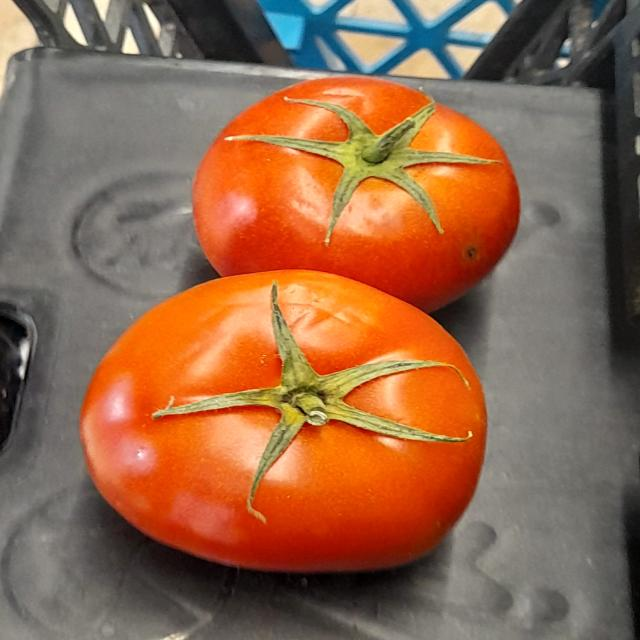tomato: (82, 264, 485, 579), (179, 56, 528, 306)
